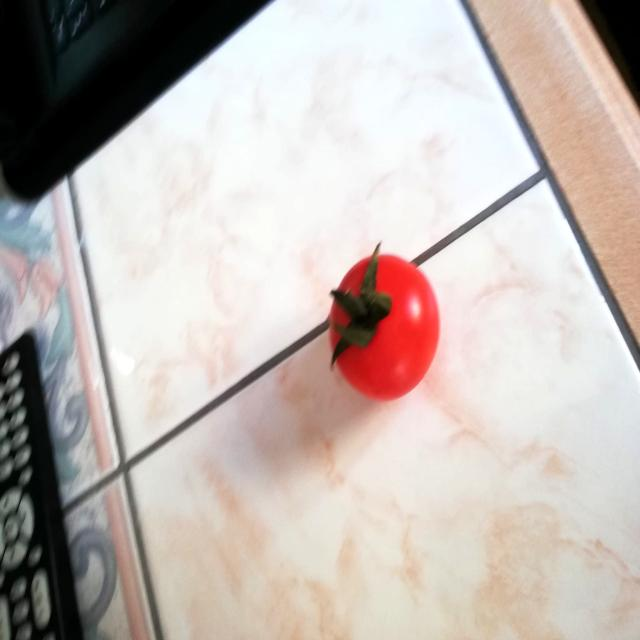tomato: (321, 235, 447, 408)
